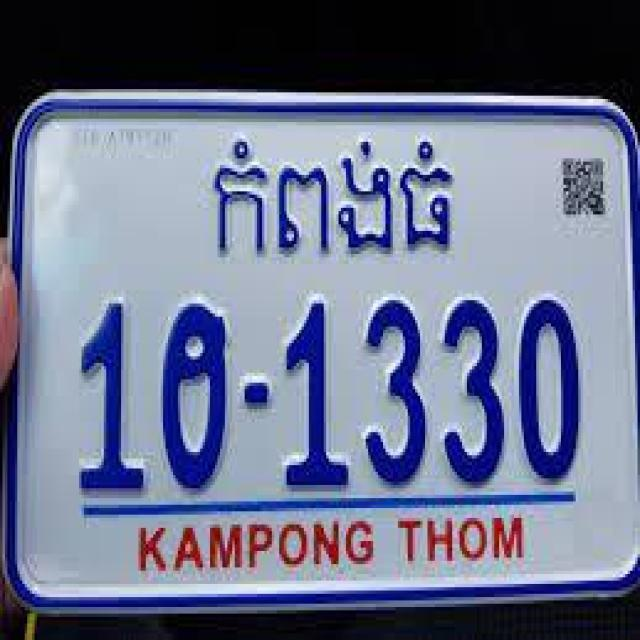Kampong_Thom: (215, 135, 453, 258)
